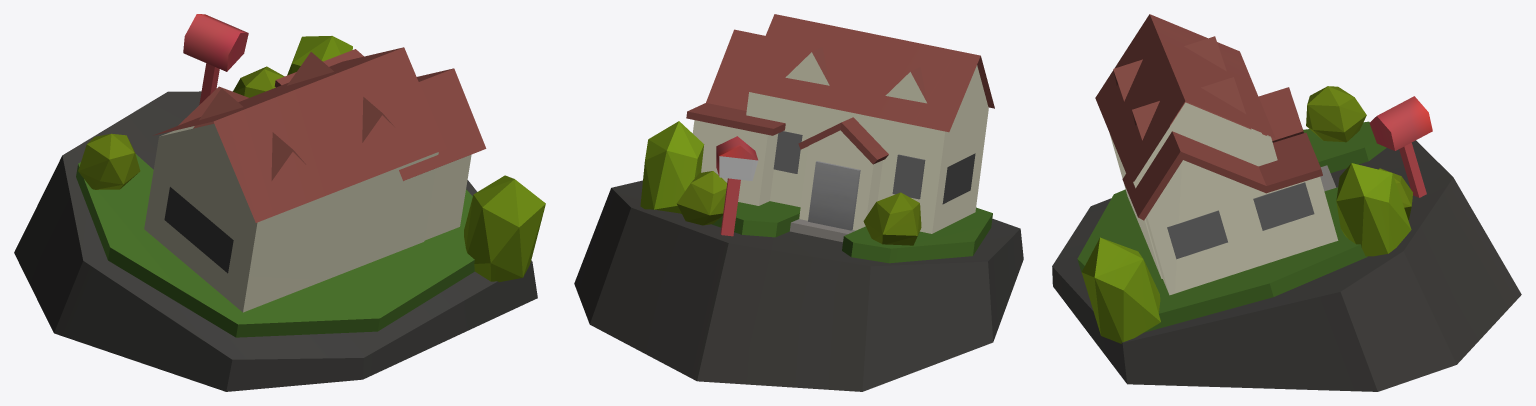
File: city_lv01_B.fbx
3 renders of one model, left to right at view 1: azimuth 30°, elevation 25°; view 2: azimuth 150°, elevation 25°; view 3: azimuth 270°, elevation 25°, orthographic. The views are drawn at different scales.
Visible parts, largest first — view 1: city_lv01_B; view 2: city_lv01_B; view 3: city_lv01_B.
Part boxes in pixels (<box>): city_lv01_B: <box>14,14,545,391</box>; city_lv01_B: <box>574,14,1023,391</box>; city_lv01_B: <box>1052,14,1521,391</box>.
Size of the model in its own units: 3250 by 1914 by 3404.
